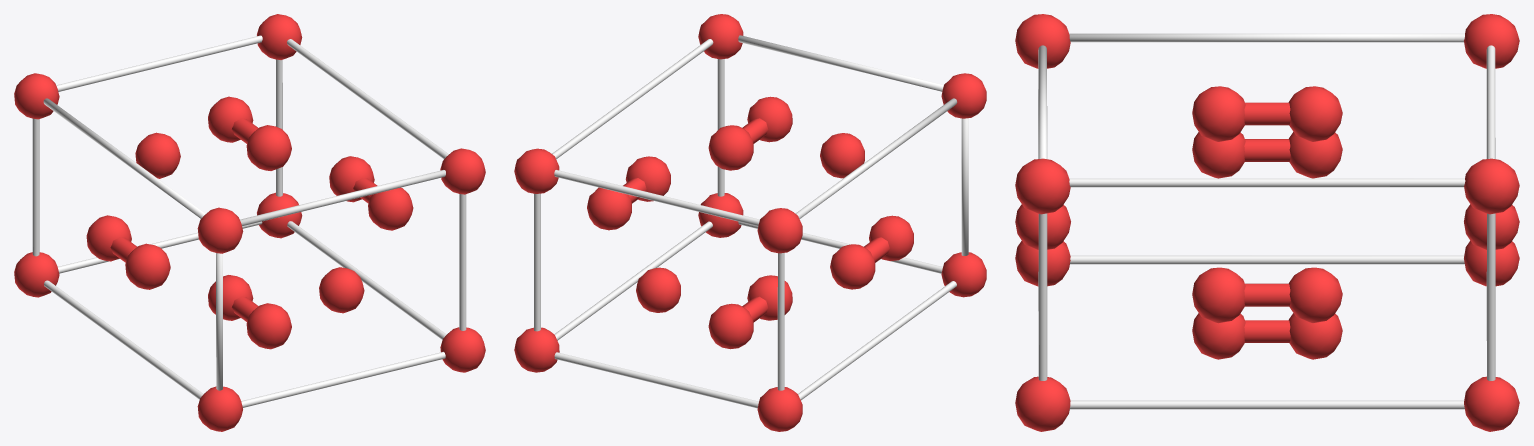
File: OXIGENO.fbx
3 renders of one model, left to right at view 1: azimuth 30°, elevation 25°; view 2: azimuth 150°, elevation 25°; view 3: azimuth 270°, elevation 25°, orthographic. The views are drawn at different scales.
Visible parts, largest first — view 1: O.009, limite.013; view 2: O.009, limite.013; view 3: O.009, limite.013.
Part boxes in pixels (x1,y1,x2,y2): O.009: (14,14,485,431); limite.013: (32,35,466,407); O.009: (514,14,986,431); limite.013: (534,35,968,408); O.009: (1015,14,1519,431); limite.013: (1038,33,1495,409).
Size of the model in its own units: 18.32 by 13.64 by 23.28.
